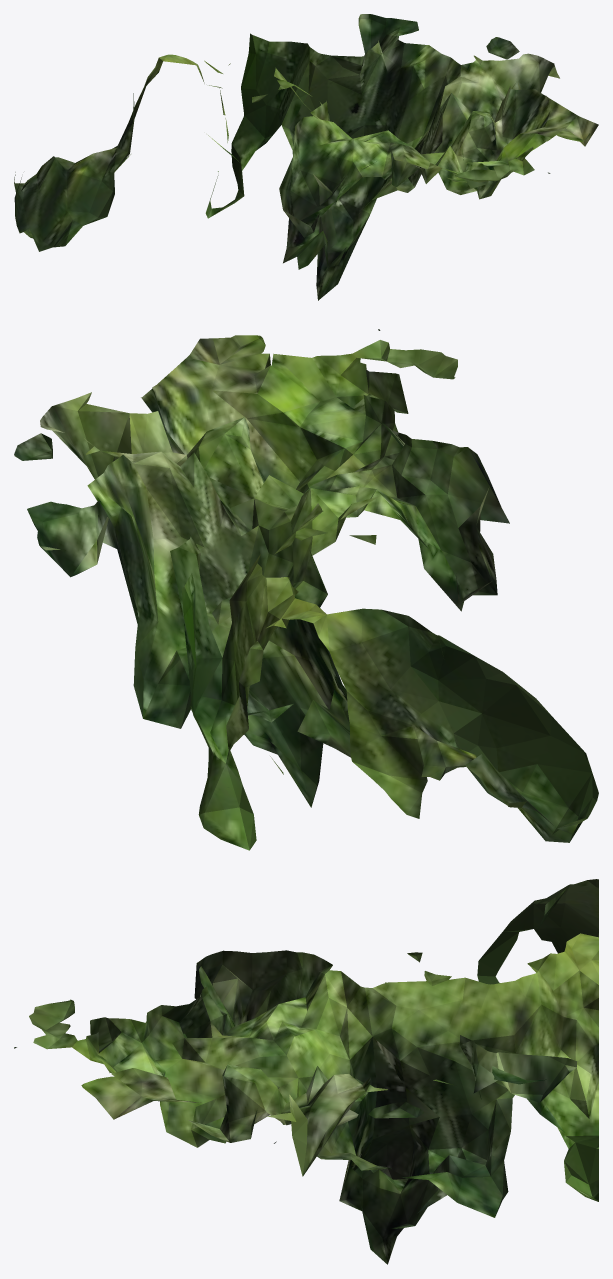
The picture shows the model from 3 angles, top to bottom: view 1: azimuth 30°, elevation 25°; view 2: azimuth 150°, elevation 25°; view 3: azimuth 270°, elevation 25°; orthographic projection. The views are drawn at different scales.
Bounding box in the file's own units: 22.49 × 9.94 × 19.
2 materials, 2 textured.
